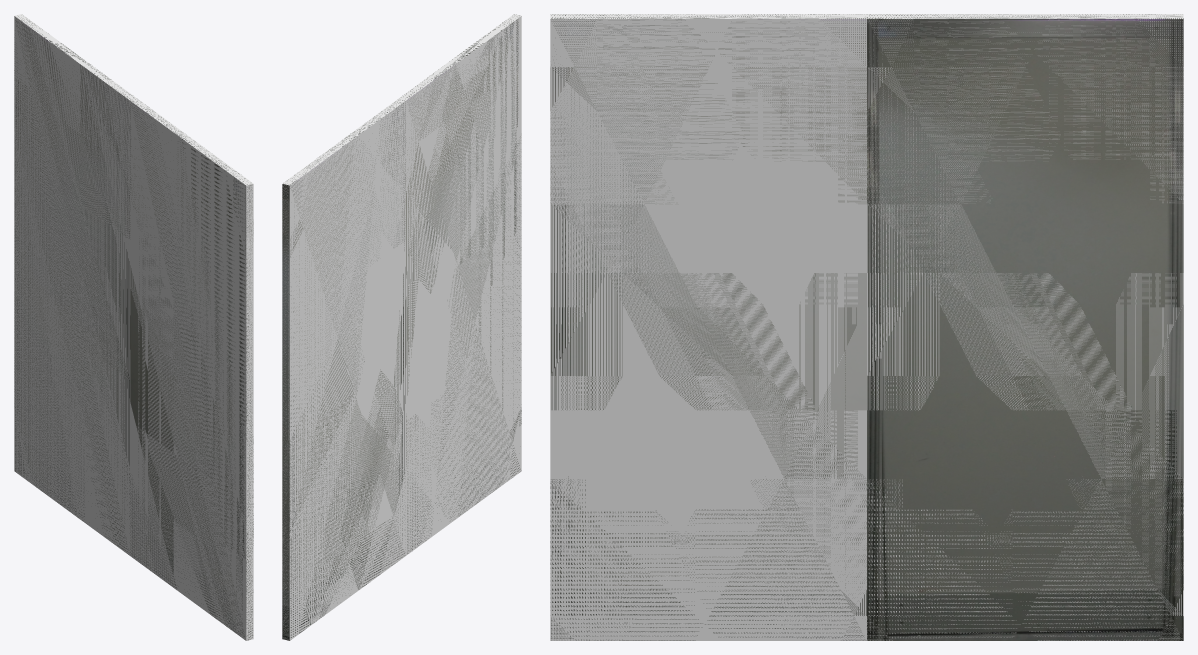
The model's file is SRS_divider6.dae.
The picture shows the model from 3 angles, left to right: view 1: azimuth 30°, elevation 25°; view 2: azimuth 150°, elevation 25°; view 3: azimuth 270°, elevation 25°; orthographic projection. The views are drawn at different scales.
Parts seen in each view (by area): view 1: SketchUp; view 2: SketchUp (×2); view 3: SketchUp.
Part boxes in pixels (x1=…): SketchUp: x1=14, y1=14, x2=253, y2=640; SketchUp (×2): x1=282, y1=14, x2=521, y2=640; SketchUp: x1=550, y1=14, x2=1183, y2=640.
Size of the model in its own units: 0.0453 by 2.4 by 2.6.
8 materials, 6 textured.
